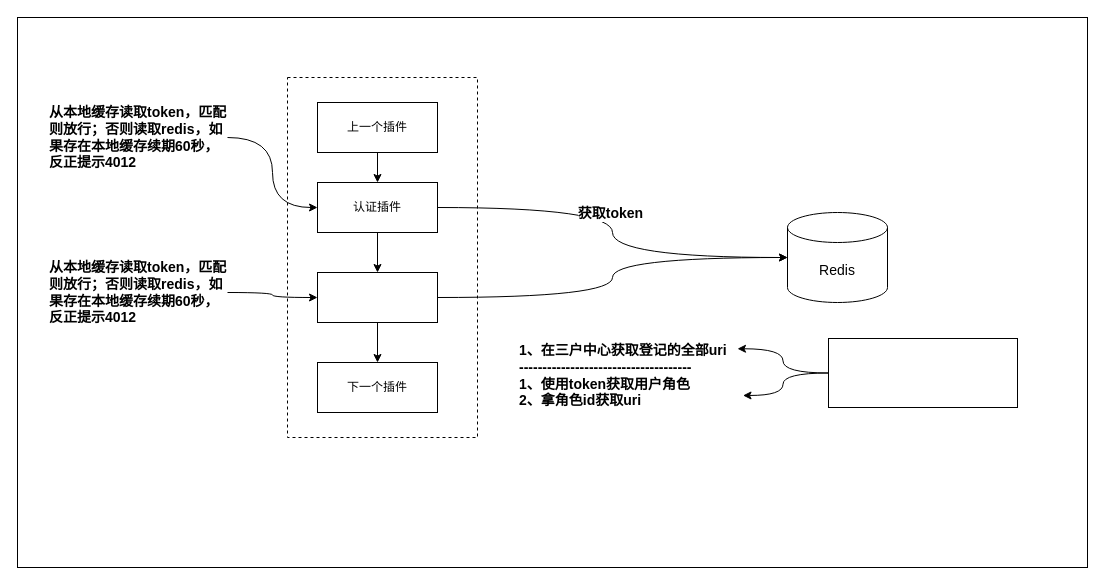
Image size: 1105x585. Some labels were removed from this diagram. The box of each missing label's shape, as (x1, y1, x2, y2) in pixels:
拿登记的uri 和 用户角色里的uri对比是否相等，相等则放行，反正4016: (828, 338, 1018, 408)
鉴权插件: (316, 272, 438, 322)
